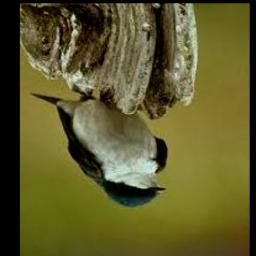Swallow: (31, 91, 167, 208)
